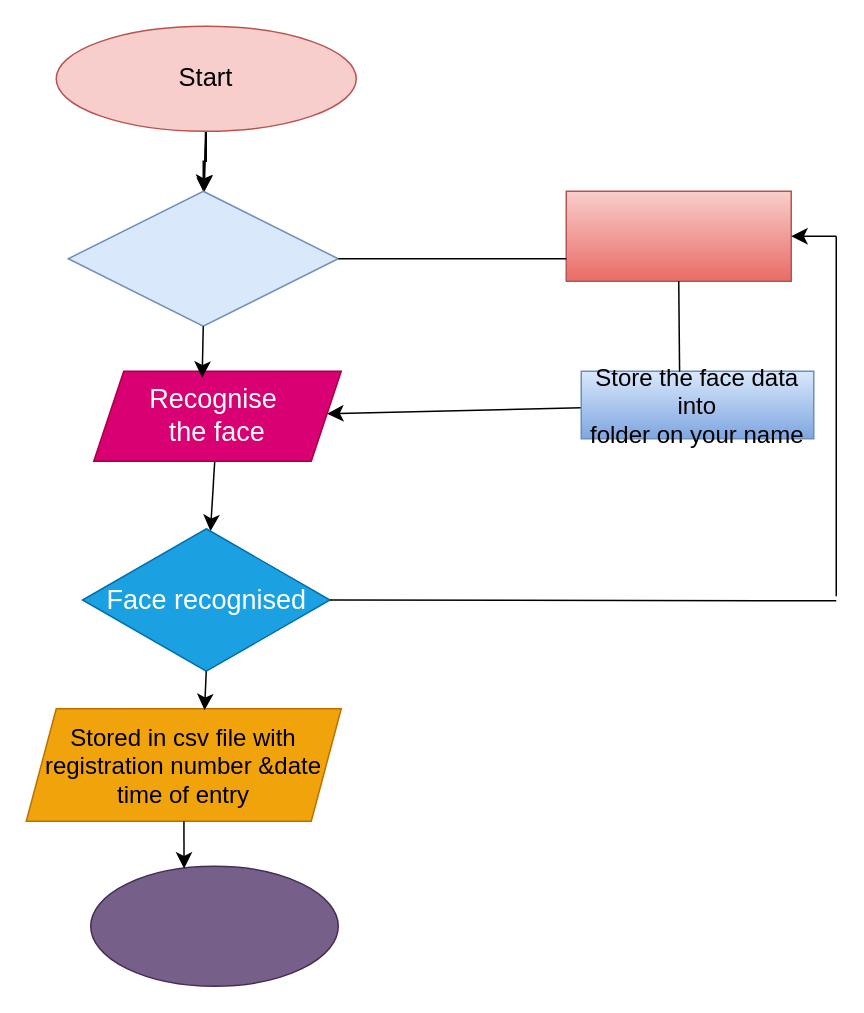
This 864x1013 diagram has some shape labels left out. Each missing label, with the centre of its shape:
"end" belongs at point (213, 925).
"Give your photograph" belongs at point (678, 235).
"New user?" belongs at point (202, 258).
